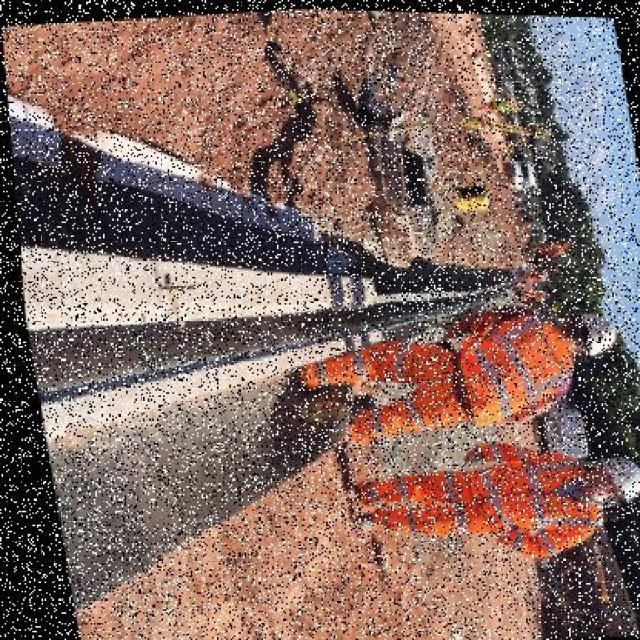helmet: (576, 442, 640, 510), (557, 297, 618, 361)
vest: (435, 435, 593, 561), (437, 303, 580, 425)
